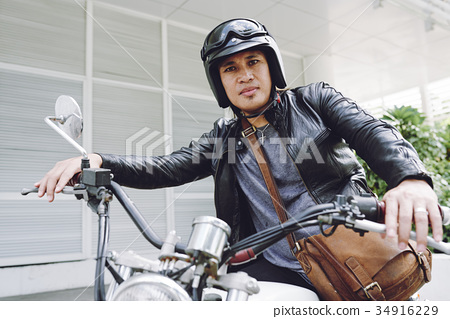helmet: (201, 12, 289, 83)
